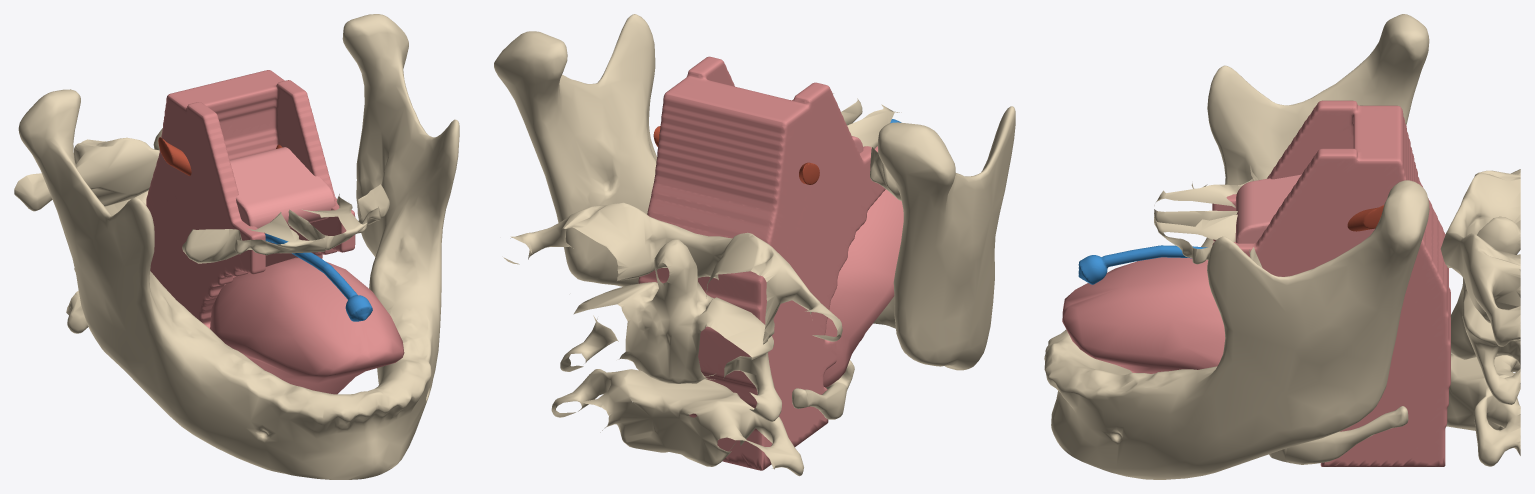
The model's file is furlow-whole.glb.
3 renders of one model, left to right at view 1: azimuth 30°, elevation 25°; view 2: azimuth 150°, elevation 25°; view 3: azimuth 270°, elevation 25°, orthographic. The views are drawn at different scales.
Visible parts, largest first — view 1: bone (×5), mucosa, tongue, soft, air, muscle; view 2: bone (×6), mucosa, tongue; view 3: bone (×7), mucosa, tongue, soft, air, muscle.
Part boxes in pixels (x1=…): bone (×5): x1=14, y1=14, x2=459, y2=479; mucosa: x1=146, y1=70, x2=355, y2=328; tongue: x1=210, y1=257, x2=404, y2=394; soft: x1=230, y1=147, x2=335, y2=233; air: x1=265, y1=233, x2=372, y2=321; muscle: x1=158, y1=137, x2=282, y2=175; bone (×6): x1=494, y1=14, x2=1015, y2=476; mucosa: x1=638, y1=56, x2=885, y2=470; tongue: x1=823, y1=189, x2=903, y2=387; bone (×7): x1=1044, y1=14, x2=1520, y2=479; mucosa: x1=1212, y1=100, x2=1450, y2=466; tongue: x1=1062, y1=257, x2=1225, y2=373; soft: x1=1235, y1=174, x2=1301, y2=243; air: x1=1078, y1=245, x2=1207, y2=284; muscle: x1=1347, y1=205, x2=1384, y2=231.
Bounding box in the file's own units: 106 × 81.1 × 104.
